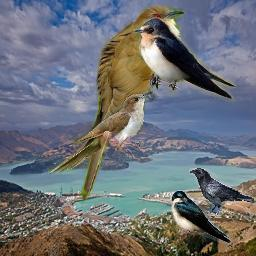Crow: (189, 168, 256, 218)
Cuckoo: (79, 5, 186, 202), (47, 90, 153, 174)
Swallow: (133, 16, 236, 102), (171, 190, 232, 244)
